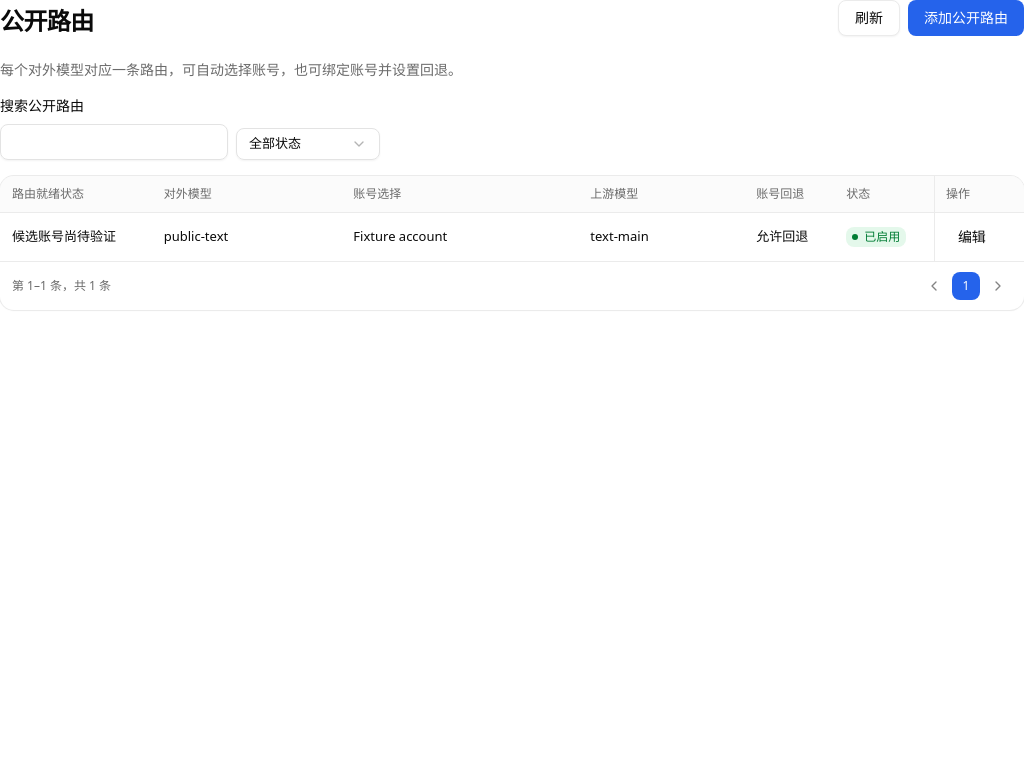
Scenario: clears hidden binding fields and preserves edits on failed save for retry
Click the button "编辑": (972, 236) [946,220,998,252]
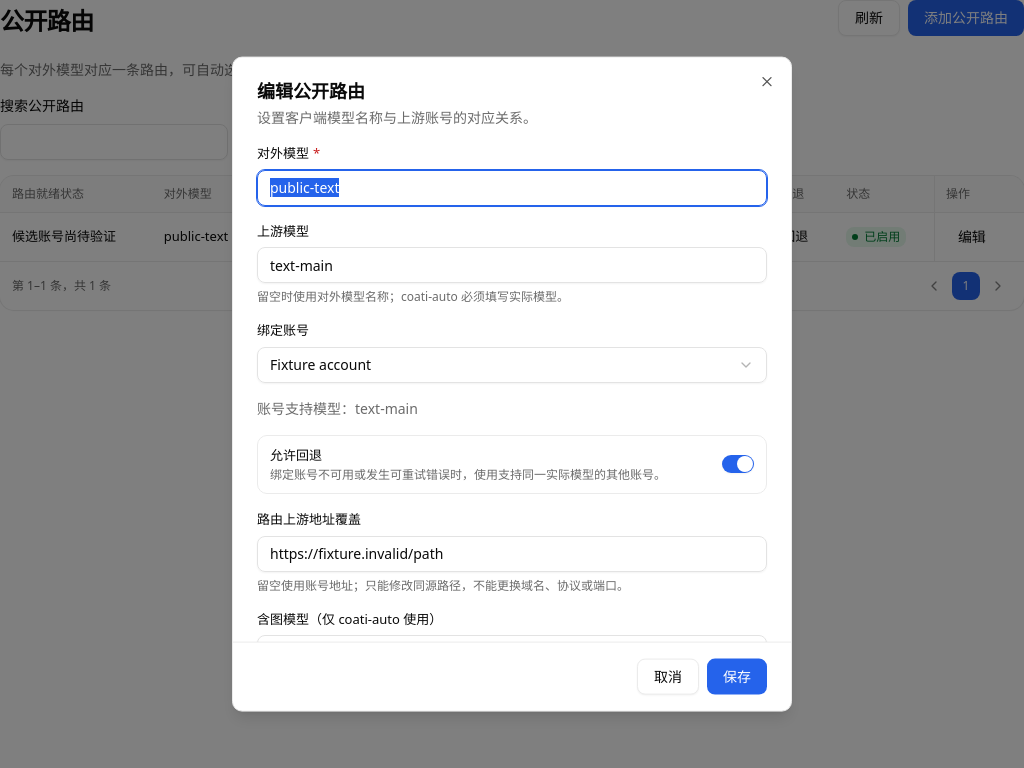
Click the dropdown named "绑定账号": (321, 364) [257,346,767,382]
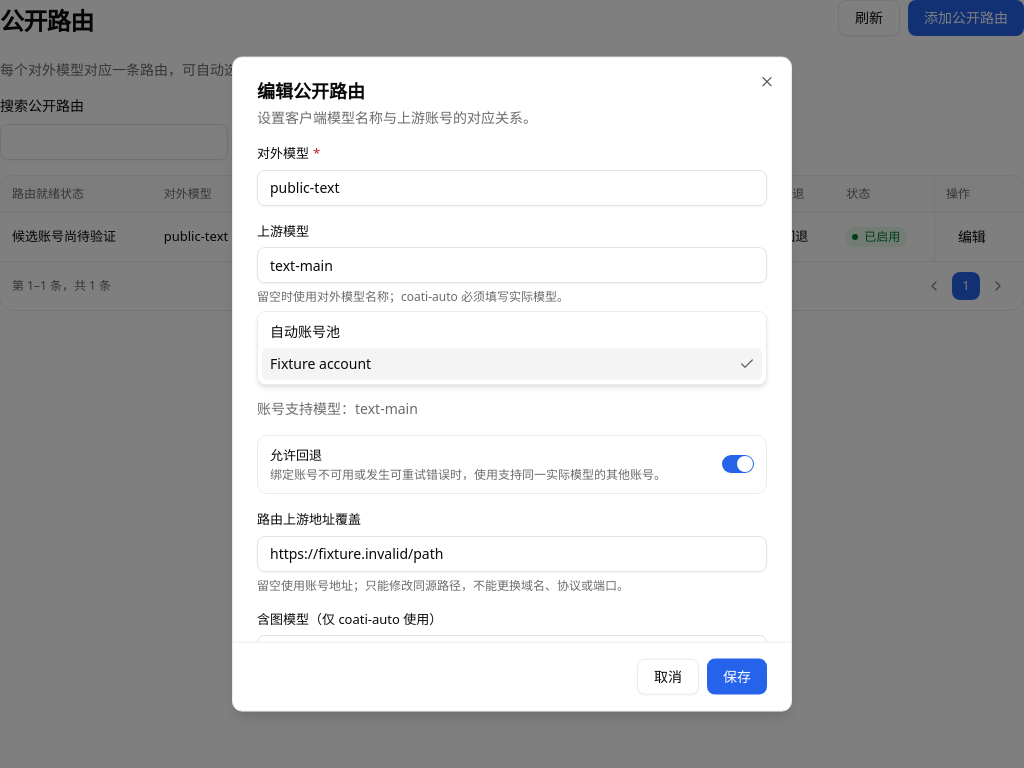
Click the option "自动账号池": (305, 332) [270,322,340,341]
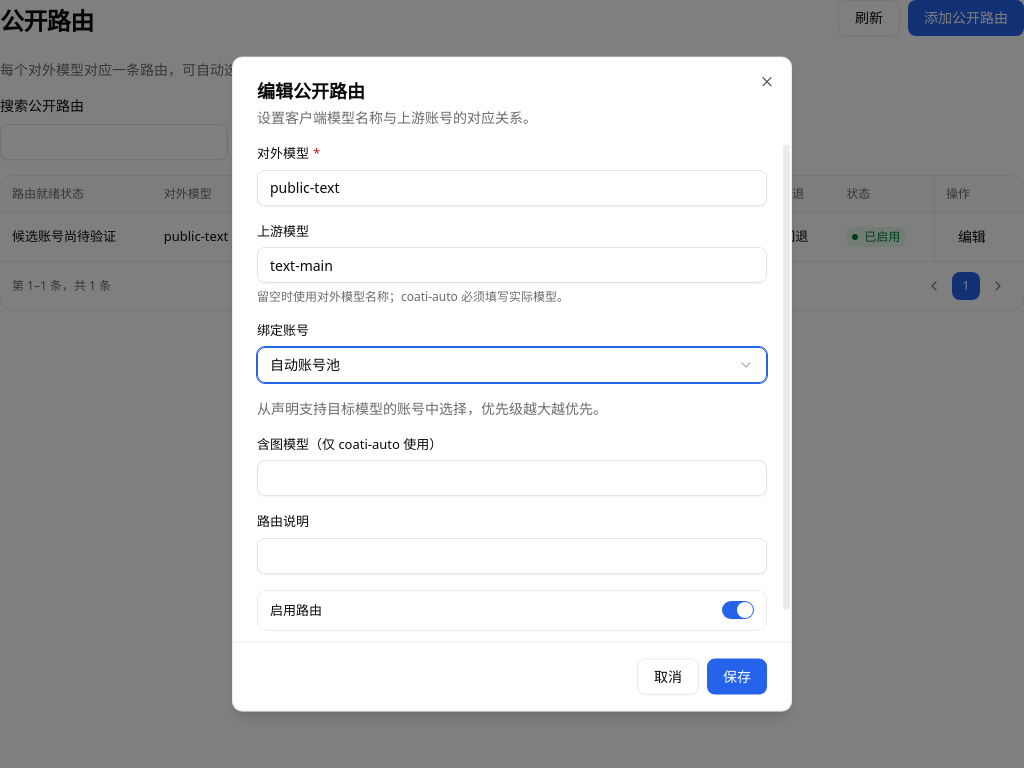
Result: the label labelled "路由上游地址覆盖" is gone
Click the button "保存": (737, 676) [707,658,767,694]
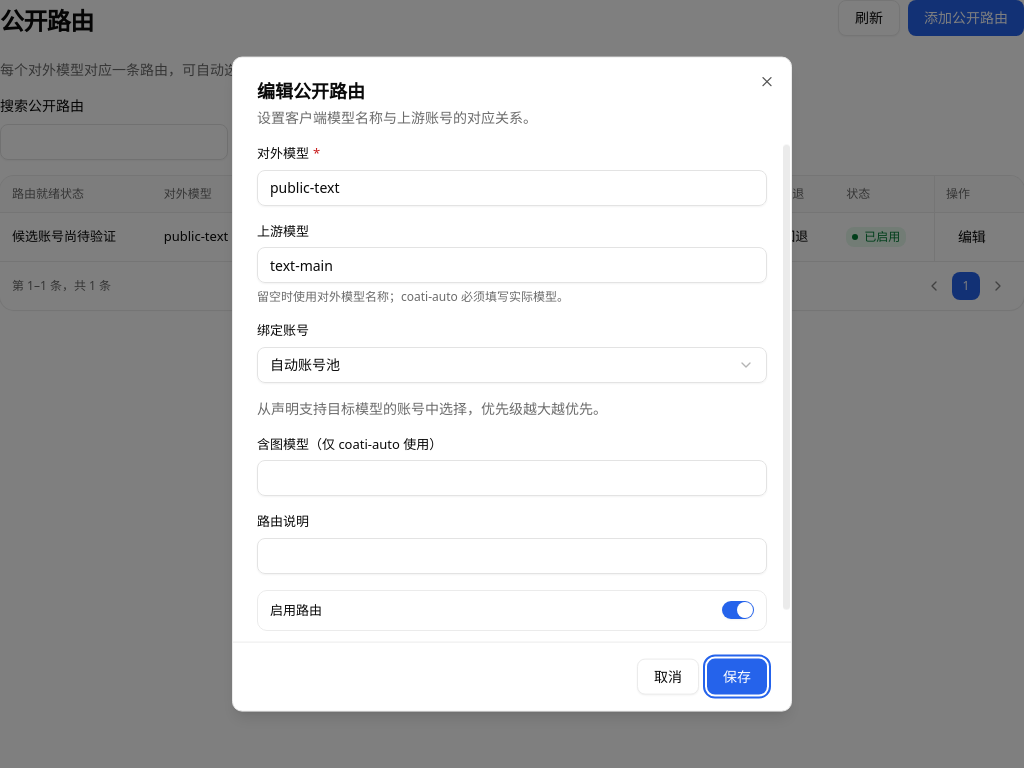
Result: the dialog is shown at [232,57,792,711]
Result: the field labelled "对外模型 *" holds "public-text" at [257,169,767,205]
Click the button "保存": (737, 676) [707,658,767,694]
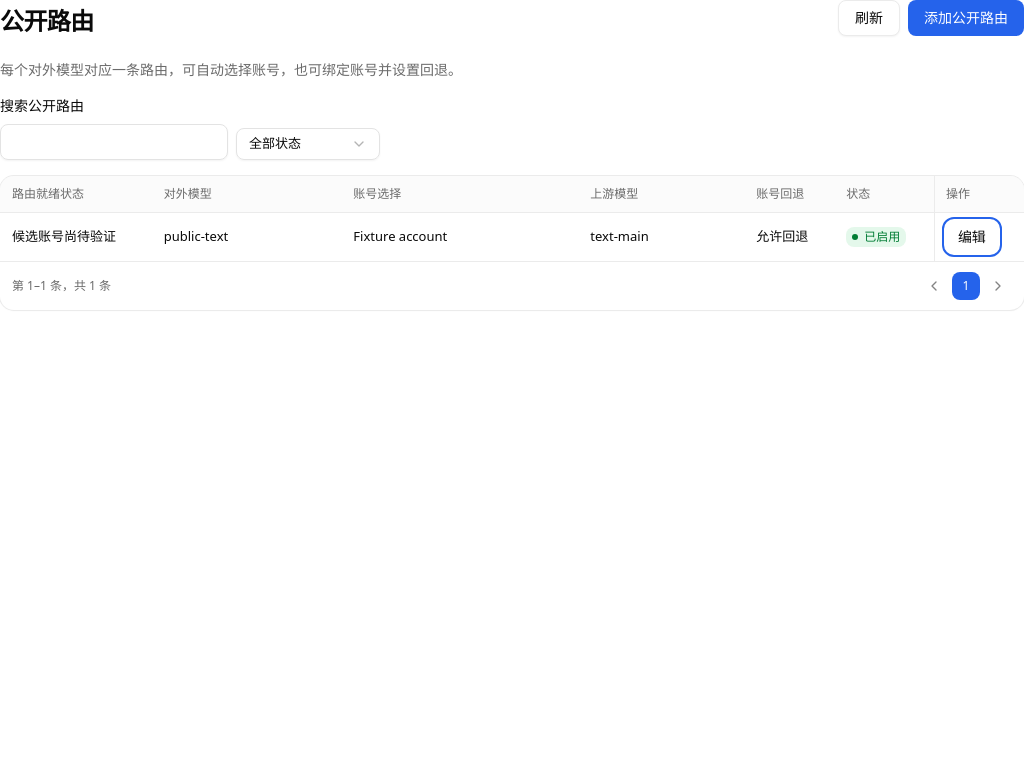
Result: the dialog is gone
